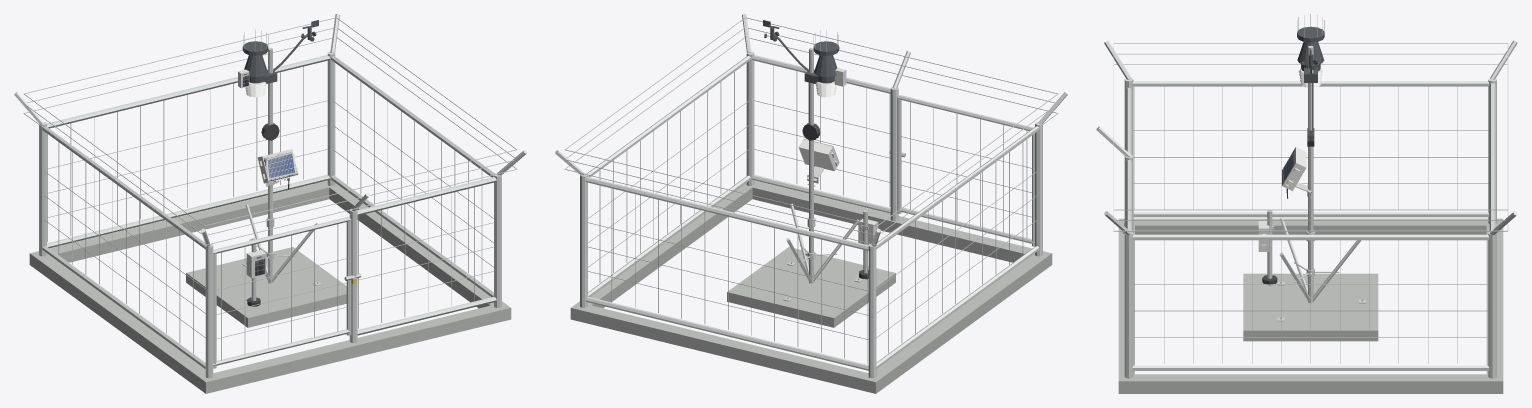
The model's file is automated_weather_station.glb.
3 views of the same model, side by side, from view 1: azimuth 30°, elevation 25°; view 2: azimuth 150°, elevation 25°; view 3: azimuth 270°, elevation 25° (orthographic). The views are drawn at different scales.
Visible parts, largest first — view 1: AWS_AWS_Concrete, AWS_AWS_FencePipe, AWS_AWS_WireMesh, AWS_AWS_GalvanizedSteel, AWS_AWS_PlasticBlack, AWS_AWS_SolarKitTextured, AWS_AWS_PlasticWhite; view 2: AWS_AWS_Concrete, AWS_AWS_FencePipe, AWS_AWS_WireMesh, AWS_AWS_GalvanizedSteel, AWS_AWS_PlasticWhite, AWS_AWS_PlasticBlack; view 3: AWS_AWS_Concrete, AWS_AWS_FencePipe, AWS_AWS_GalvanizedSteel, AWS_AWS_WireMesh, AWS_AWS_PlasticBlack, AWS_AWS_PlasticWhite.
Part boxes in pixels (x1,y1,x2,y2): AWS_AWS_Concrete: [29, 180, 511, 393]; AWS_AWS_FencePipe: [14, 14, 526, 378]; AWS_AWS_WireMesh: [44, 66, 494, 360]; AWS_AWS_GalvanizedSteel: [23, 17, 517, 300]; AWS_AWS_PlasticBlack: [242, 20, 318, 180]; AWS_AWS_SolarKitTextured: [262, 149, 298, 182]; AWS_AWS_PlasticWhite: [238, 69, 298, 278]; AWS_AWS_Concrete: [570, 180, 1052, 393]; AWS_AWS_FencePipe: [555, 14, 1067, 378]; AWS_AWS_WireMesh: [587, 62, 1037, 363]; AWS_AWS_GalvanizedSteel: [564, 17, 1058, 301]; AWS_AWS_PlasticWhite: [798, 68, 878, 245]; AWS_AWS_PlasticBlack: [763, 20, 839, 139]; AWS_AWS_Concrete: [1118, 218, 1503, 393]; AWS_AWS_FencePipe: [1096, 40, 1517, 378]; AWS_AWS_GalvanizedSteel: [1113, 14, 1508, 321]; AWS_AWS_WireMesh: [1133, 87, 1488, 363]; AWS_AWS_PlasticBlack: [1297, 26, 1324, 146]; AWS_AWS_PlasticWhite: [1258, 69, 1322, 251].
Size of the model in its own units: 3.5 by 2.68 by 3.59.
Materials: 10 (2 with a texture image).
